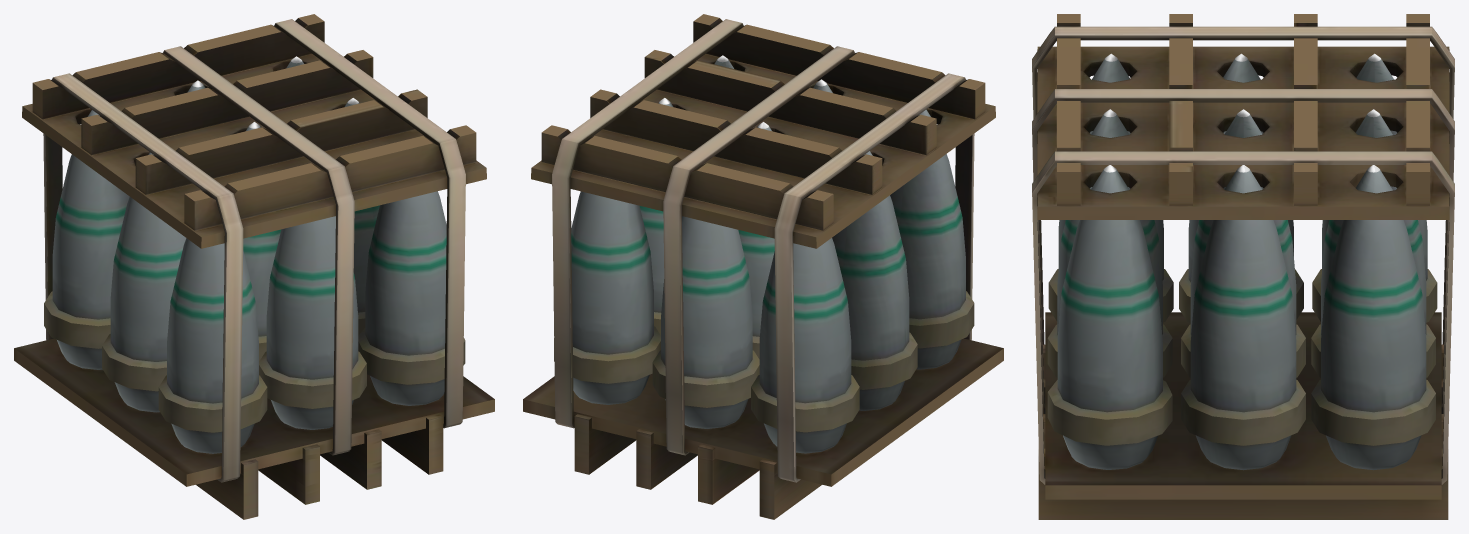
3 views of the same model, side by side, from view 1: azimuth 30°, elevation 25°; view 2: azimuth 150°, elevation 25°; view 3: azimuth 270°, elevation 25° (orthographic). The views are drawn at different scales.
Parts seen in each view (by area): view 1: body0_model0_lod0_mesh0; view 2: body0_model0_lod0_mesh0; view 3: body0_model0_lod0_mesh0.
Part boxes in pixels (x1=…): body0_model0_lod0_mesh0: x1=14, y1=14, x2=494, y2=519; body0_model0_lod0_mesh0: x1=523, y1=14, x2=1003, y2=519; body0_model0_lod0_mesh0: x1=1032, y1=14, x2=1454, y2=519.
Bounding box in the file's own units: 96 × 96 × 99.17.
1 material, 1 textured.
